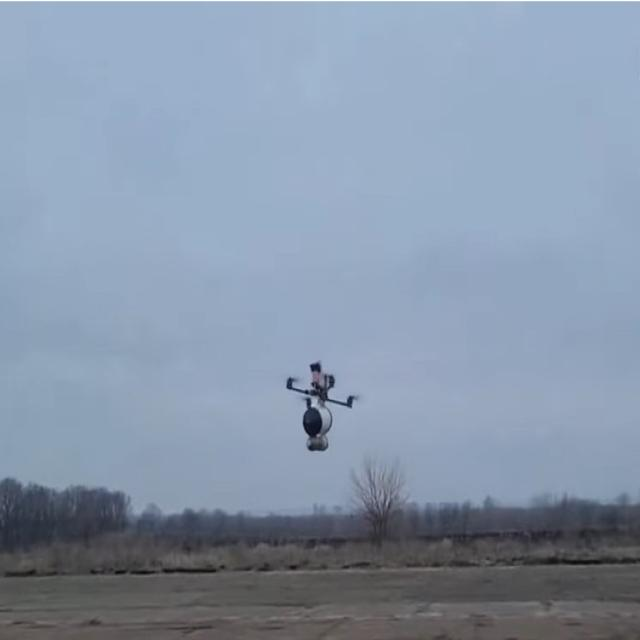drone: (284, 356, 364, 454)
